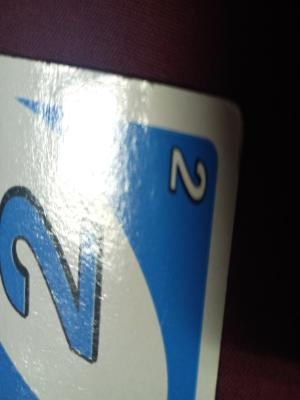blue: (4, 81, 205, 400)
